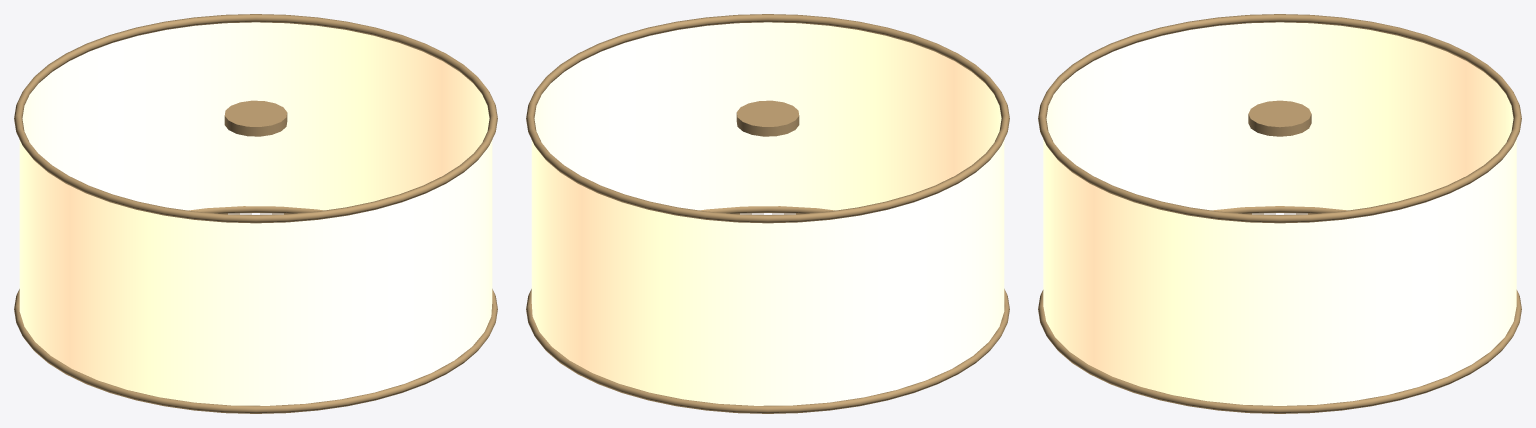
Rendered from pendant.glb.
3 renders of one model, left to right at view 1: azimuth 30°, elevation 25°; view 2: azimuth 150°, elevation 25°; view 3: azimuth 270°, elevation 25°, orthographic.
Parts seen in each view (by area): view 1: pendant_LOD0:shade, pendant_LOD0:bronze; view 2: pendant_LOD0:shade, pendant_LOD0:bronze; view 3: pendant_LOD0:shade, pendant_LOD0:bronze.
Boxes of the visible parts, x1,y1,x2,y2 form: pendant_LOD0:shade: (19,22,492,405); pendant_LOD0:bronze: (14,14,497,413); pendant_LOD0:shade: (531,22,1004,405); pendant_LOD0:bronze: (526,14,1009,413); pendant_LOD0:shade: (1043,22,1516,405); pendant_LOD0:bronze: (1038,14,1521,413).
Size of what is drawn, in the model's own units: 0.92 by 0.4169 by 0.92.
